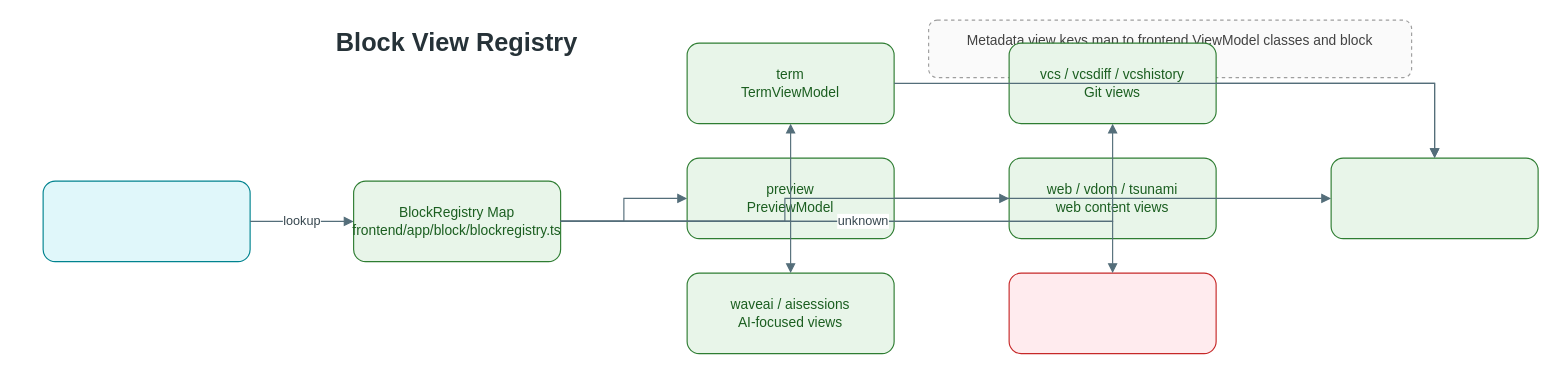
This 1558x374 diagram has some shape labels left out. The shapes that lost their labels are listed below. From the top down, each one's centre as x and y in pixels, then its label:
At point (1434, 198): "BlockFrame header + actions + content".
At point (146, 221): "Block Metadata view key".
At point (1112, 313): "Default ViewModel icon + name only".
